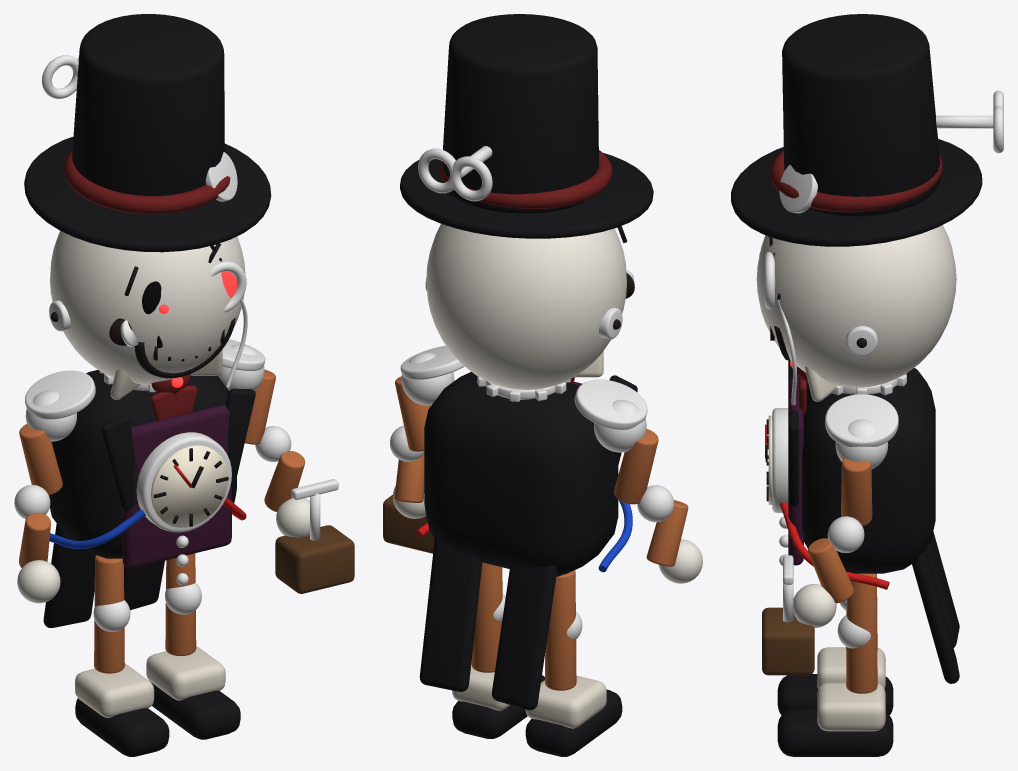
Rendered from tick.glb.
3 renders of one model, left to right at view 1: azimuth 30°, elevation 25°; view 2: azimuth 150°, elevation 25°; view 3: azimuth 270°, elevation 25°, orthographic. The views are drawn at different scales.
Parts seen in each view (by area): view 1: HatCrown, Head, HatBrim, Torso, Waistcoat, ClockFace, Detonator, Tail, HatBand, Shoe, Shoe.001, Spat (+28 smaller); view 2: Torso, Head, HatCrown, HatBrim, Tail.001, Tail, Leg, Shoe, Spat, Leg.001, Epaulet, HatBand (+16 smaller); view 3: HatCrown, Head, Torso, HatBrim, Shoe.001, Detonator, Spat.001, Leg.001, Epaulet.001, HatBand, Tail.001, UpperArm.001 (+19 smaller).
Boxes of the visible parts, x1,y1,x2,y2 form: HatCrown: (72, 14, 224, 195); Head: (50, 231, 245, 384); HatBrim: (24, 137, 271, 252); Torso: (49, 370, 236, 558); Waistcoat: (122, 404, 231, 568); ClockFace: (151, 445, 228, 527); Detonator: (275, 525, 354, 593); Tail: (43, 523, 95, 627); HatBand: (64, 150, 230, 214); Shoe: (75, 698, 169, 756); Shoe.001: (151, 682, 240, 739); Spat: (75, 664, 154, 717); Torso: (424, 372, 618, 576); Head: (426, 224, 626, 389); HatCrown: (441, 14, 598, 213); HatBrim: (400, 153, 653, 238); Tail.001: (419, 537, 482, 691); Tail: (492, 565, 557, 710); Leg: (545, 570, 576, 690); Shoe: (525, 689, 622, 756); Spat: (525, 675, 606, 728); Leg.001: (471, 562, 502, 672); Epaulet: (574, 379, 647, 429); HatBand: (439, 150, 612, 208); HatCrown: (782, 14, 940, 216); Head: (756, 225, 956, 387); Torso: (802, 368, 935, 573); HatBrim: (731, 139, 982, 246); Shoe.001: (777, 709, 893, 756); Detonator: (762, 607, 814, 675); Spat.001: (817, 683, 885, 731); Leg.001: (846, 573, 877, 693); Epaulet.001: (825, 394, 898, 446); HatBand: (770, 150, 942, 212); Tail.001: (912, 550, 959, 683); UpperArm.001: (841, 458, 872, 526).
Bounding box in the file's own units: 0.697 × 1.46 × 0.5187.
